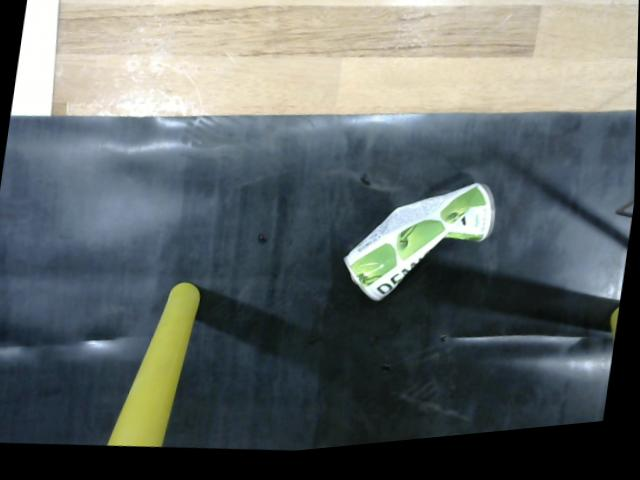can: (342, 184, 497, 311)
